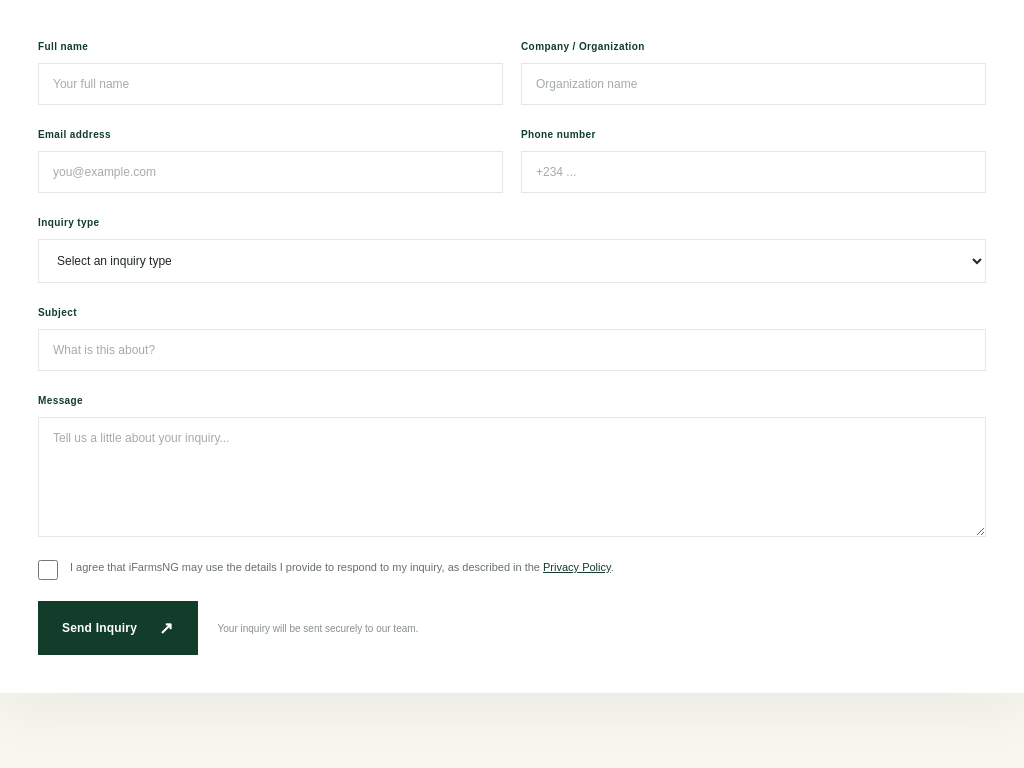
Scenario: ContactForm › shows server validation errors next to the fields and marks them invalid
Type "Ada Obi" into the field labelled "Full name" at (270, 84), box [38,63,503,105]
Type "ada@example.com" into the field labelled "Email address" at (270, 172), box [38,151,503,193]
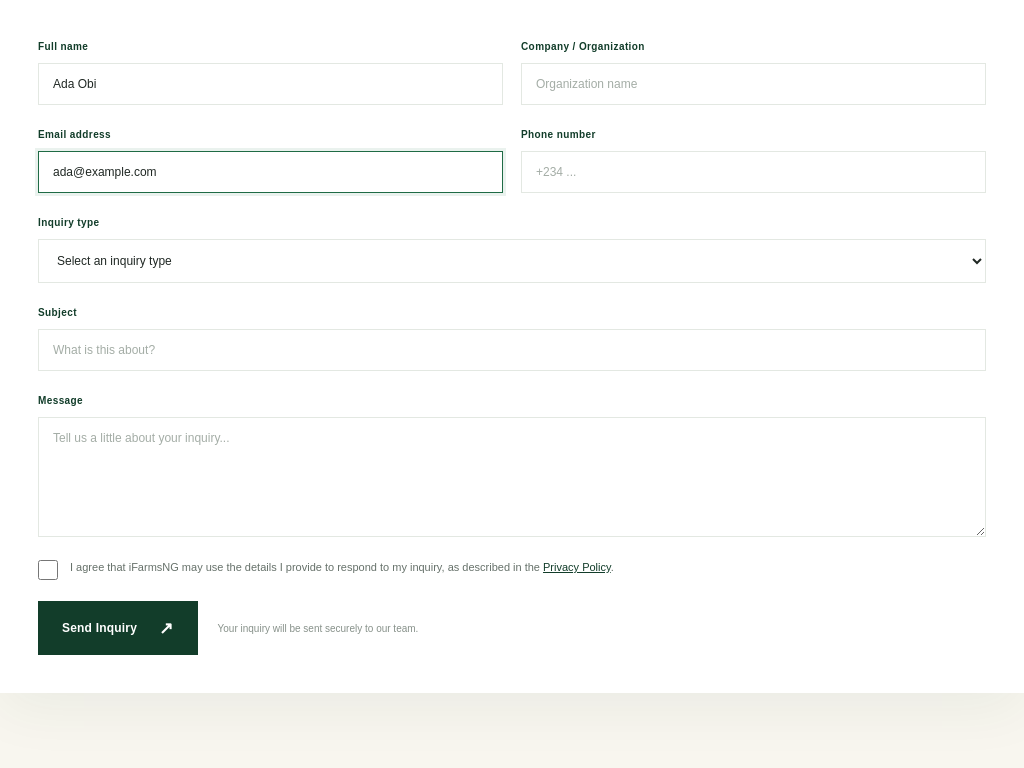
Select "Commodity Supply" in the dropdown labelled "Inquiry type" at (512, 261), box [38,239,986,283]
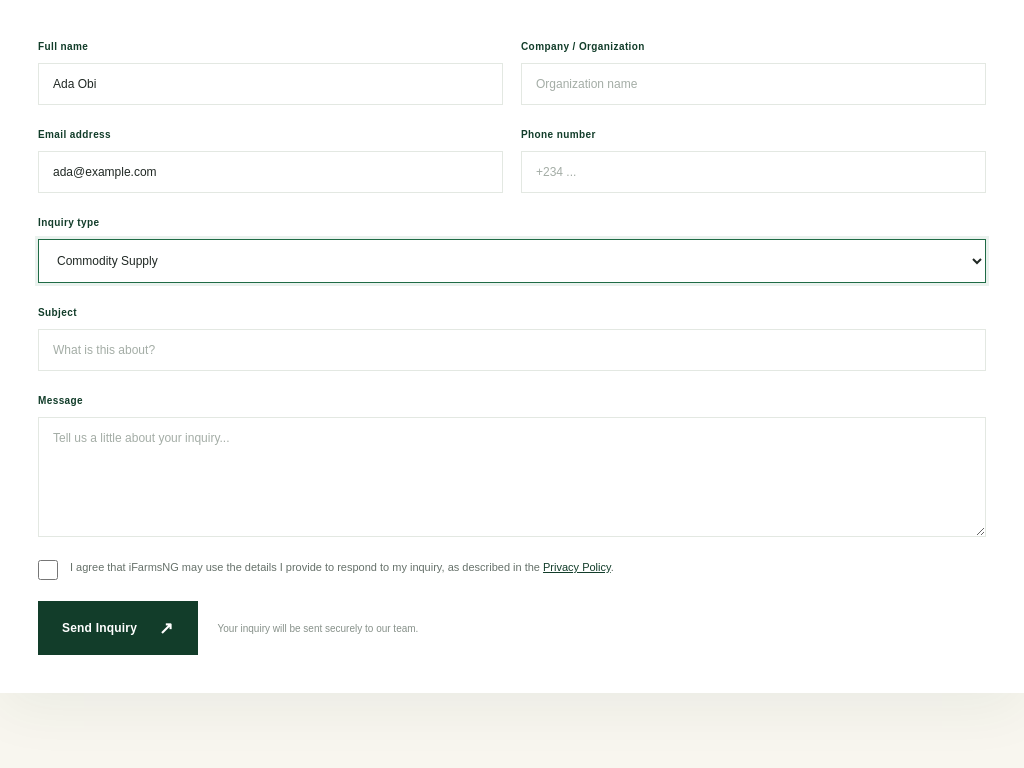
Type "Rice supply" into the field labelled "Subject" at (512, 350), box [38,329,986,371]
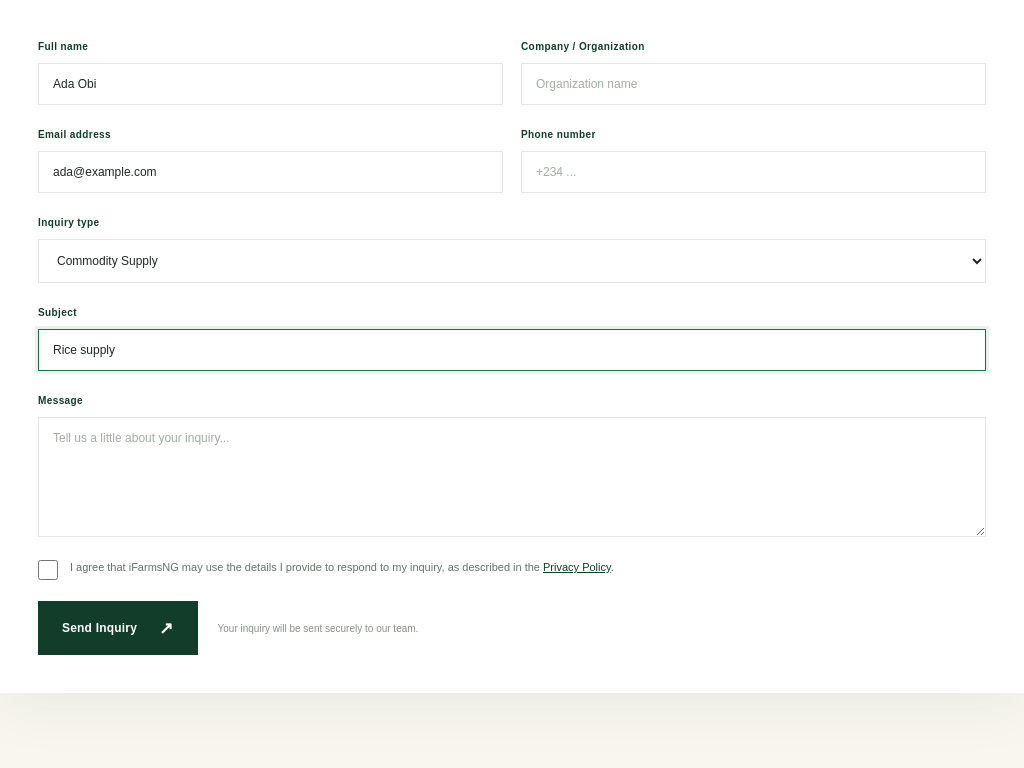
Type "We would like regular rice supply." into the text box labelled "Message" at (512, 477), box [38,417,986,537]
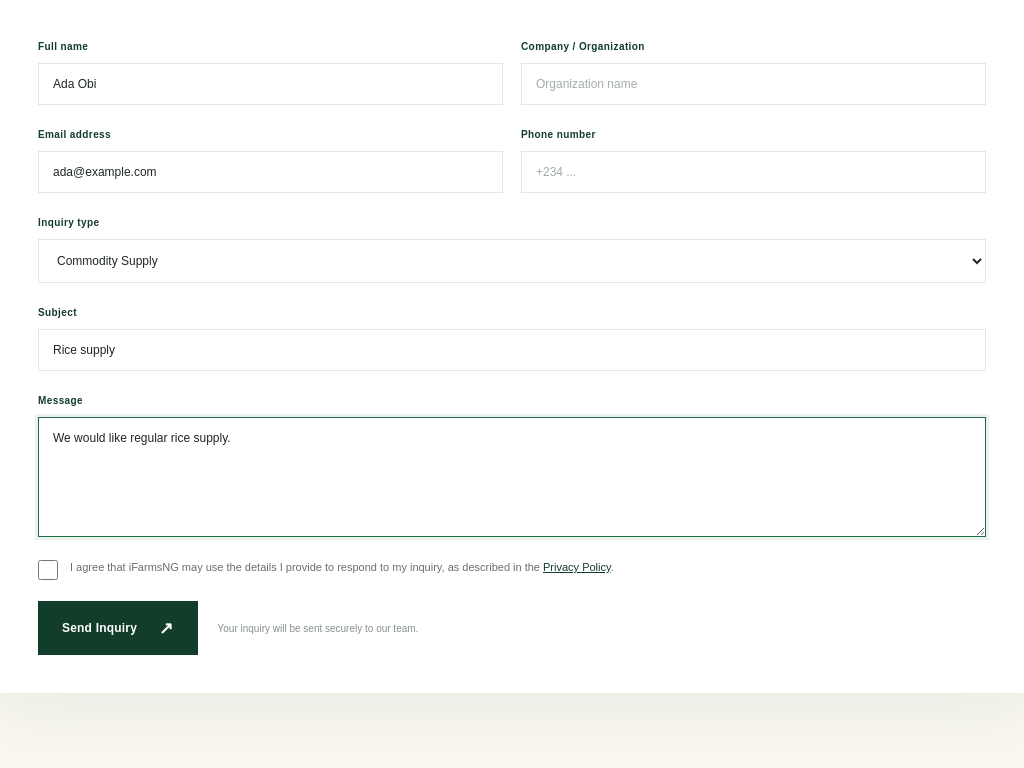
Click the checkbox at (48, 570), box [38,560,58,580]
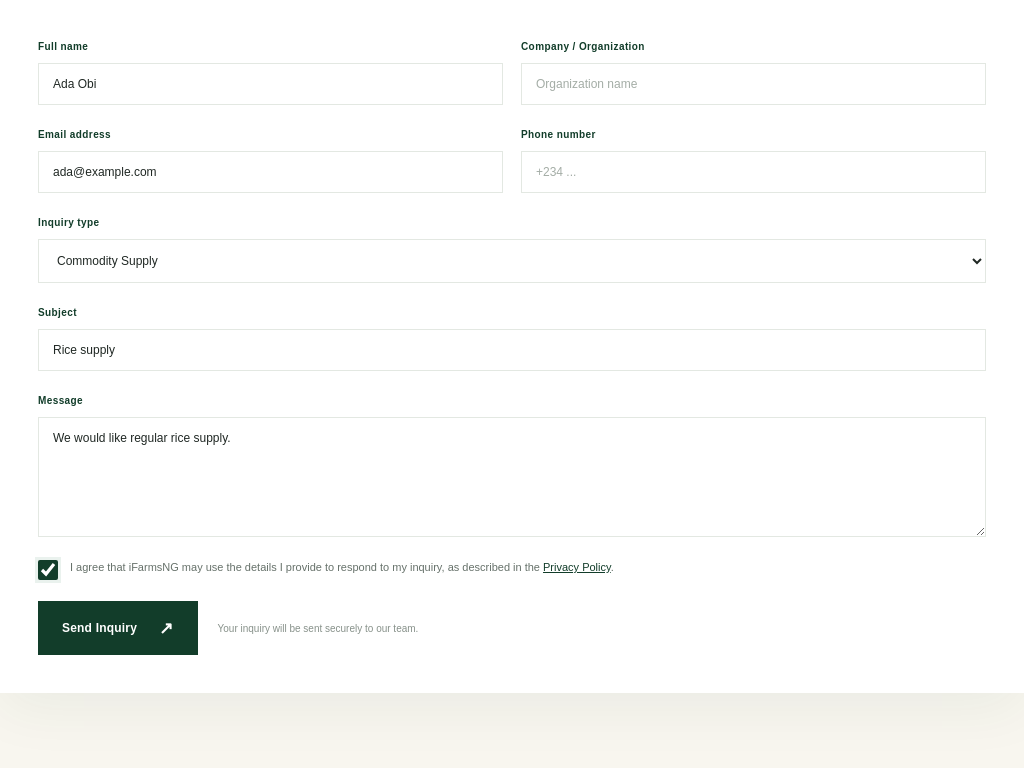
Click the button "Send Inquiry ↗" at (118, 628), box [38,601,198,655]
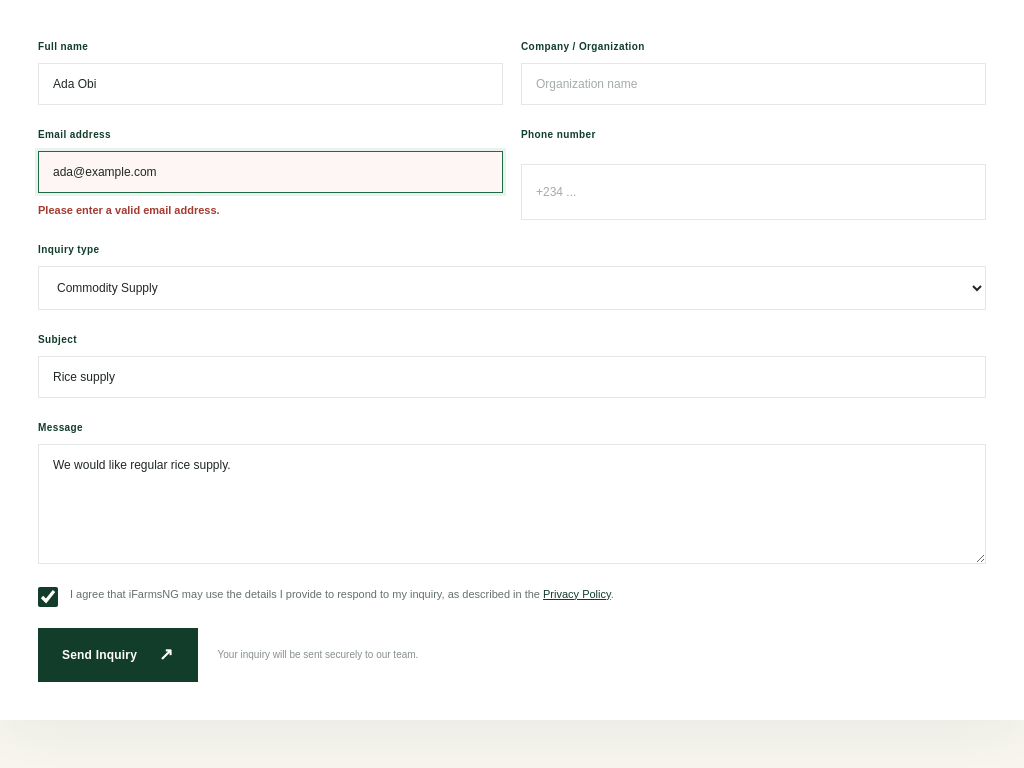
Expected: the text "Please enter a valid email address." is shown, [38,204,220,216]
